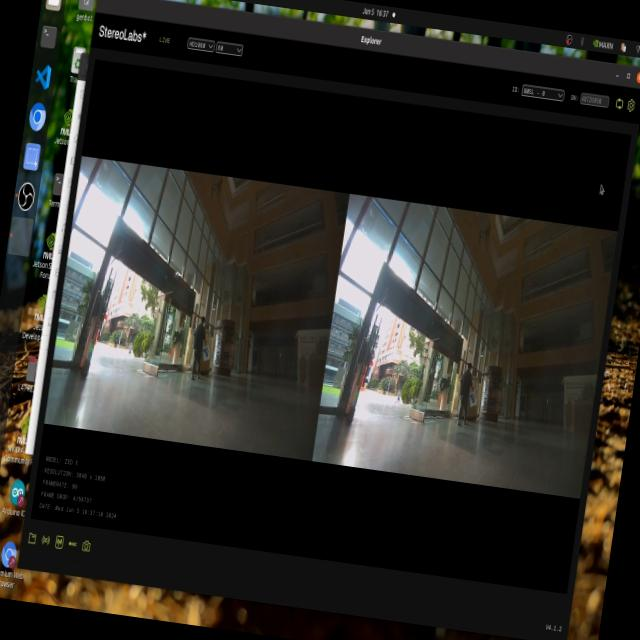blue: (199, 342, 212, 362), (467, 392, 477, 407)
